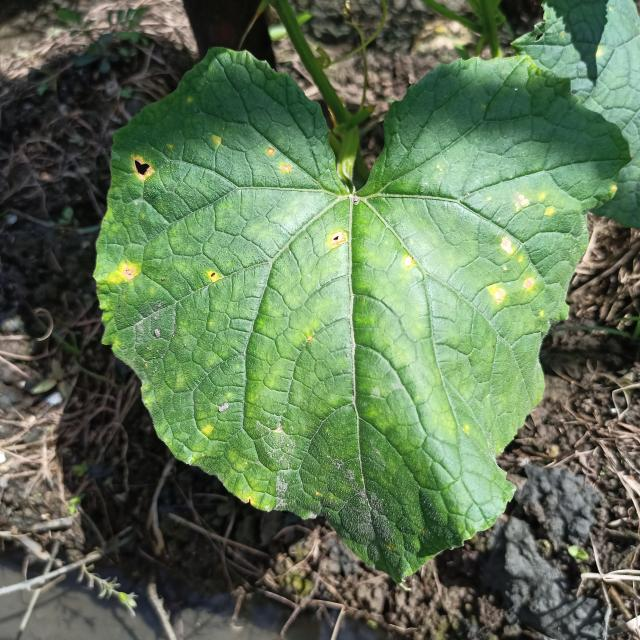disease_cucumber: (489, 189, 557, 305), (263, 145, 294, 180), (103, 261, 142, 285), (131, 156, 157, 183), (328, 230, 347, 249), (206, 268, 220, 282), (401, 256, 412, 268)
